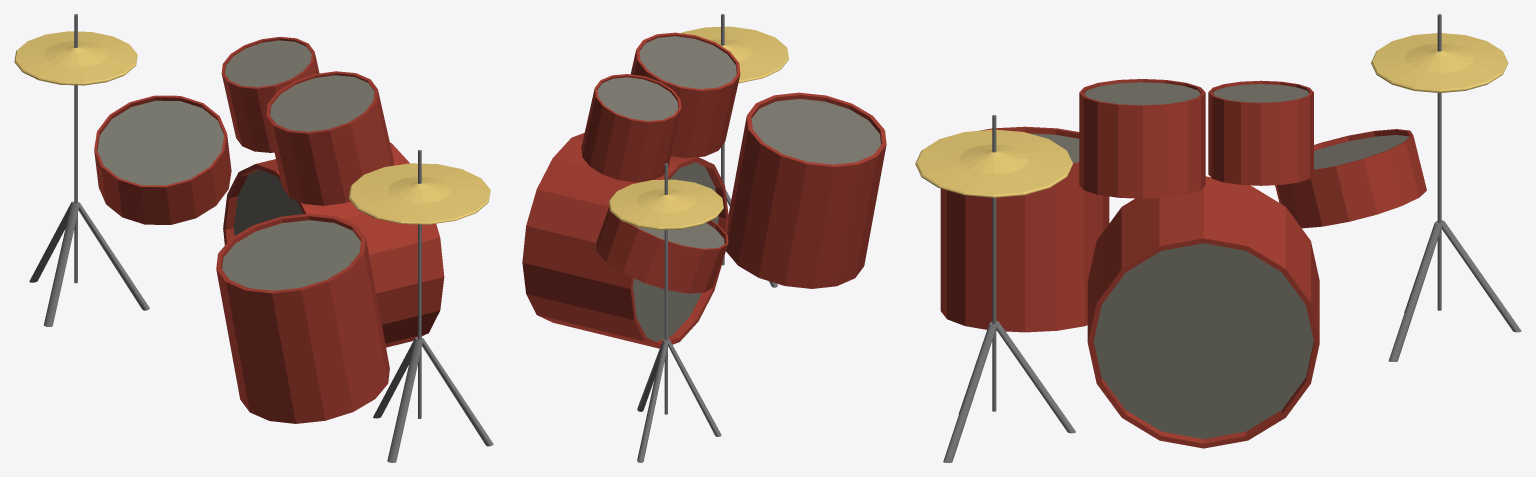
The model's file is Drums.fbx.
The picture shows the model from 3 angles, left to right: view 1: azimuth 30°, elevation 25°; view 2: azimuth 150°, elevation 25°; view 3: azimuth 270°, elevation 25°; orthographic projection. The views are drawn at different scales.
Visible parts, largest first — view 1: Floor Tom, Snare, Low Tom, Bass, Crash, High Hat, High tom; view 2: Floor Tom, Bass, High tom, Low Tom, High Hat, Snare, Crash; view 3: Bass, Floor Tom, Low Tom, Crash, High tom, Snare, High Hat.
Part boxes in pixels (box(x1,y1,x2,y2)): Floor Tom: box(216, 213, 389, 423); Snare: box(94, 95, 231, 224); Low Tom: box(266, 71, 393, 205); Bass: box(223, 142, 444, 347); Crash: box(348, 150, 493, 462); High Hat: box(14, 14, 149, 326); High tom: box(221, 37, 319, 152); Floor Tom: box(726, 92, 886, 288); Bass: box(522, 133, 728, 348); High tom: box(581, 74, 681, 182); Low Tom: box(631, 32, 740, 158); High Hat: box(608, 163, 723, 462); Snare: box(596, 207, 728, 293); Crash: box(681, 14, 788, 287); Bass: box(1087, 176, 1319, 448); Floor Tom: box(940, 126, 1109, 332); Low Tom: box(1079, 79, 1205, 198); Crash: box(915, 115, 1075, 462); High tom: box(1208, 80, 1313, 185); Snare: box(1275, 129, 1426, 228); High Hat: box(1371, 14, 1521, 361).
Size of the model in its own units: 80.48 by 91.9 by 146.
